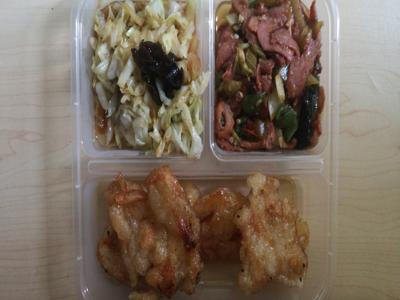gbr: (89, 164, 329, 294)
